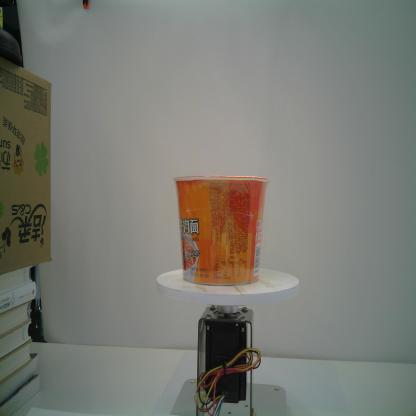Instant Noodles: (174, 175, 270, 286)
